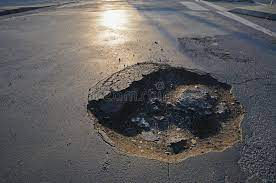potholes: (82, 61, 248, 161)
